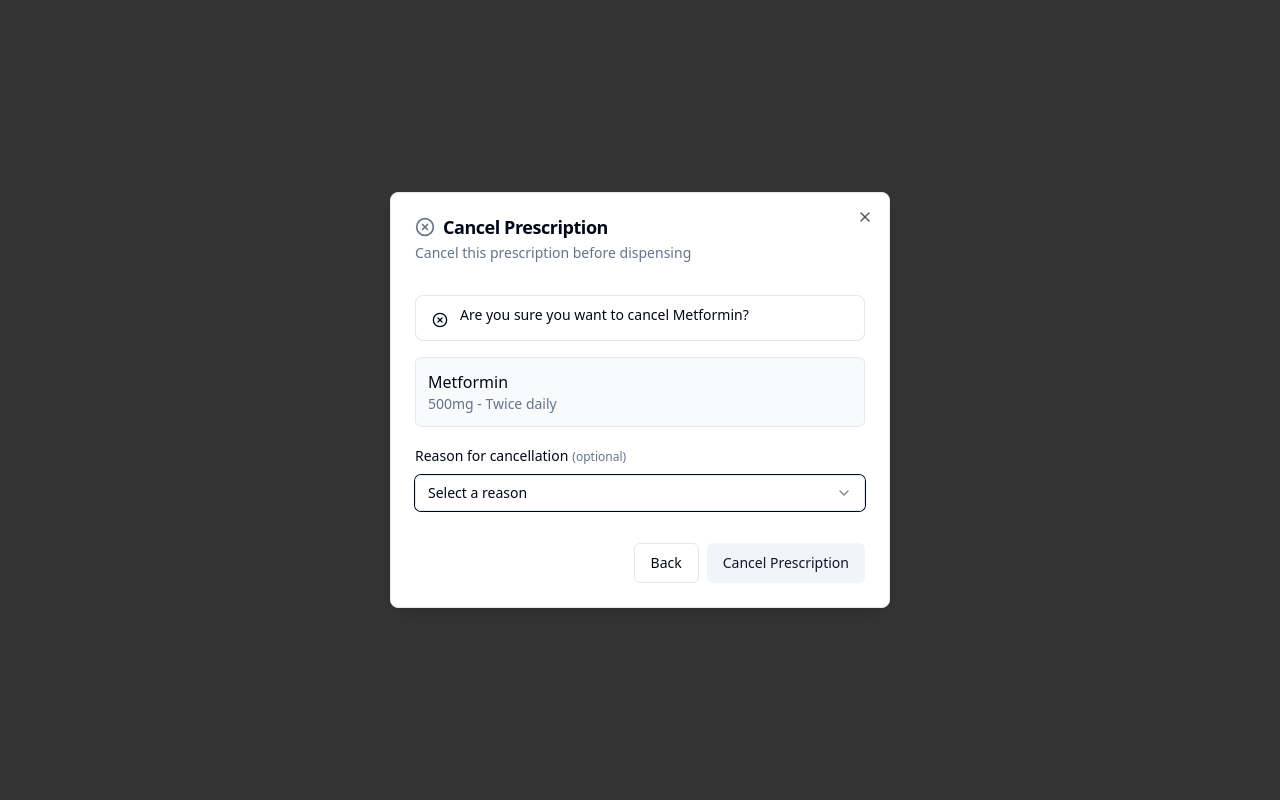
Test: CancelDialog › Reason Selection › opens reason dropdown on click
Click the dropdown: (478, 492) [415,475,865,511]
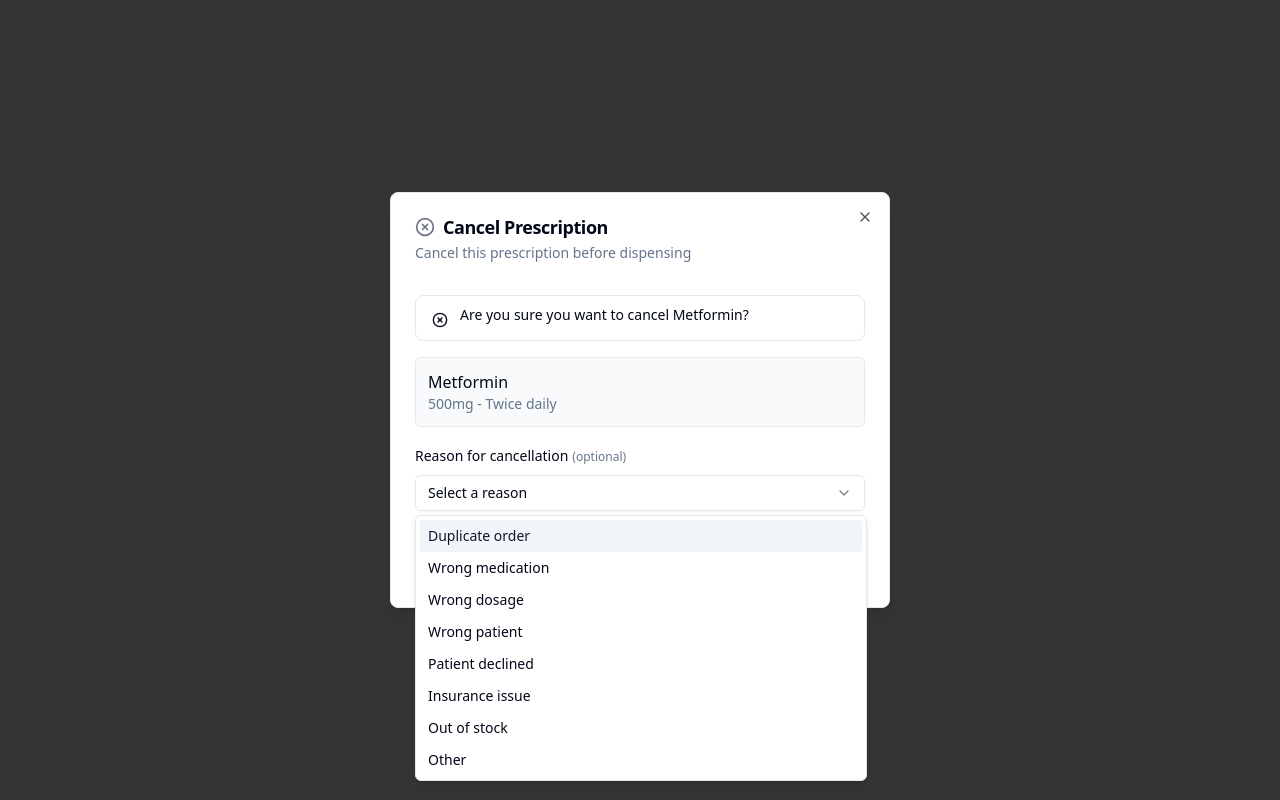
Expected: the text "Duplicate order" is shown, [428,526,530,546]
Expected: the text "Wrong medication" is shown, [428,558,549,578]
Expected: the text "Wrong dosage" is shown, [428,590,524,610]
